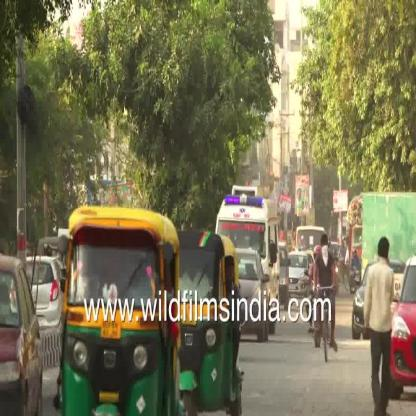priority: (217, 188, 285, 292)
